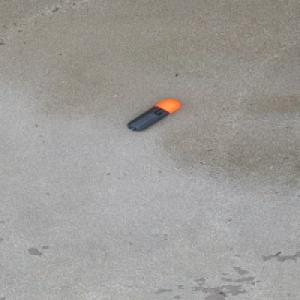PlasticPart: (125, 98, 181, 132)
